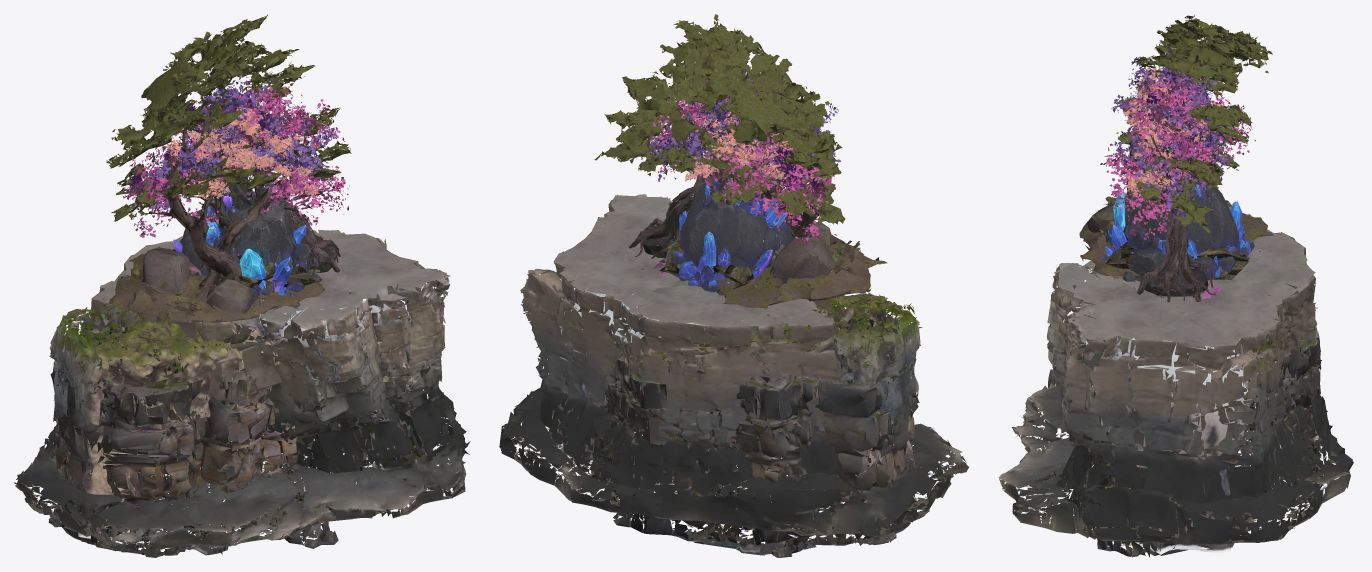
Rendered from scatter-kit.6bd4b53f8fc3.glb.
3 views of the same model, side by side, from view 1: azimuth 30°, elevation 25°; view 2: azimuth 150°, elevation 25°; view 3: azimuth 270°, elevation 25° (orthographic).
Parts seen in each view (by area): view 1: MF_Cliff_A_body, MF_Tree_Bare_A_body, MF_Cliff_C_body, MF_Cliff_B_body, MF_Tree_Purple_D_body, MF_Crystal_C_body, MF_Tree_Purple_C_body, MF_Tree_Purple_A_body, MF_Tree_Purple_B_body, MF_Rock_Shore_B_rock; view 2: MF_Cliff_A_body, MF_Tree_Bare_A_body, MF_Cliff_C_body, MF_Cliff_B_body, MF_Crystal_C_body, MF_Tree_Purple_D_body, MF_Tree_Purple_B_body, MF_Tree_Purple_C_body, MF_Tree_Purple_A_body, MF_Rock_Shore_B_rock; view 3: MF_Cliff_A_body, MF_Tree_Bare_A_body, MF_Cliff_C_body, MF_Crystal_C_body, MF_Tree_Purple_D_body, MF_Tree_Purple_C_body, MF_Tree_Purple_B_body, MF_Cliff_B_body, MF_Tree_Purple_A_body, MF_Rock_Shore_B_rock.
Boxes of the visible parts, bbox=[...] form: MF_Cliff_A_body: bbox=[14, 230, 470, 551]; MF_Tree_Bare_A_body: bbox=[106, 14, 351, 327]; MF_Cliff_C_body: bbox=[48, 298, 432, 557]; MF_Cliff_B_body: bbox=[49, 298, 422, 538]; MF_Tree_Purple_D_body: bbox=[122, 79, 349, 308]; MF_Crystal_C_body: bbox=[173, 185, 321, 308]; MF_Tree_Purple_C_body: bbox=[137, 72, 337, 292]; MF_Tree_Purple_A_body: bbox=[159, 107, 319, 208]; MF_Tree_Purple_B_body: bbox=[125, 94, 340, 273]; MF_Rock_Shore_B_rock: bbox=[173, 238, 316, 301]; MF_Cliff_A_body: bbox=[499, 194, 968, 536]; MF_Tree_Bare_A_body: bbox=[594, 14, 887, 308]; MF_Cliff_C_body: bbox=[589, 260, 919, 557]; MF_Cliff_B_body: bbox=[549, 288, 922, 521]; MF_Crystal_C_body: bbox=[665, 175, 807, 292]; MF_Tree_Purple_D_body: bbox=[646, 79, 834, 276]; MF_Tree_Purple_B_body: bbox=[628, 92, 827, 258]; MF_Tree_Purple_C_body: bbox=[641, 66, 841, 287]; MF_Tree_Purple_A_body: bbox=[685, 103, 804, 181]; MF_Rock_Shore_B_rock: bbox=[659, 238, 759, 295]; MF_Cliff_A_body: bbox=[998, 206, 1353, 544]; MF_Tree_Bare_A_body: bbox=[1079, 14, 1273, 281]; MF_Cliff_C_body: bbox=[1029, 272, 1323, 557]; MF_Crystal_C_body: bbox=[1101, 179, 1254, 285]; MF_Tree_Purple_D_body: bbox=[1100, 73, 1252, 245]; MF_Tree_Purple_C_body: bbox=[1108, 43, 1232, 279]; MF_Tree_Purple_B_body: bbox=[1137, 52, 1215, 302]; MF_Cliff_B_body: bbox=[1101, 200, 1252, 554]; MF_Tree_Purple_A_body: bbox=[1123, 67, 1223, 197]; MF_Rock_Shore_B_rock: bbox=[1105, 219, 1253, 279].
Size of the model in its own units: 14.59 by 16.49 by 11.41.
23 materials, 19 textured.
